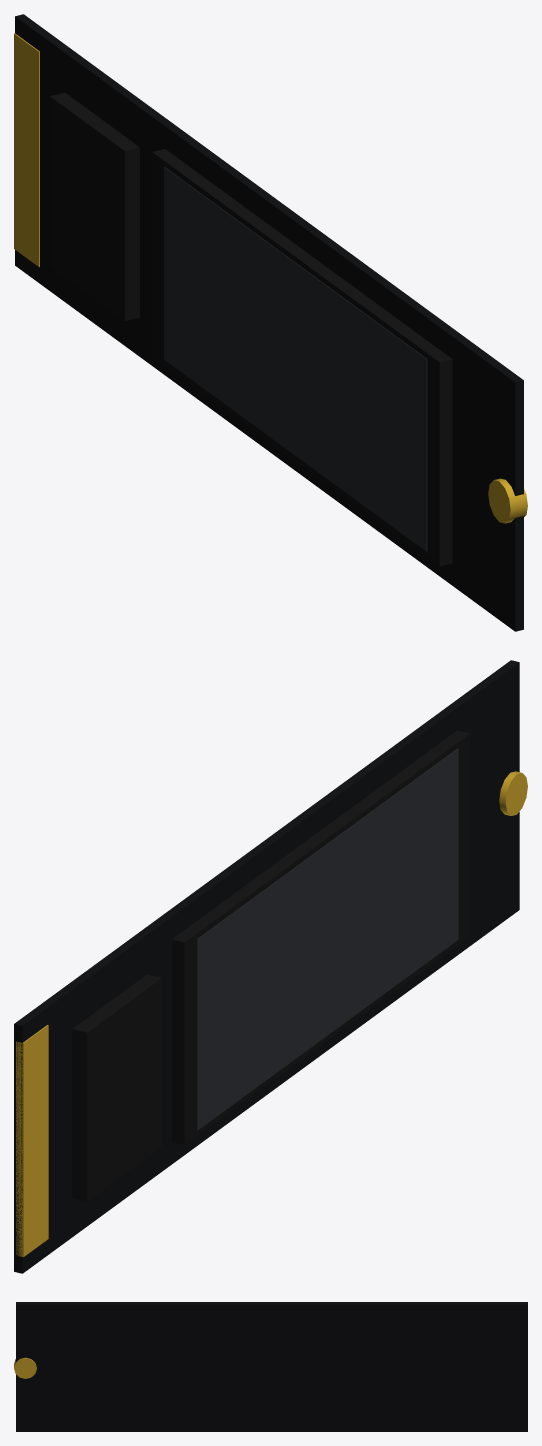
Rendered from ssd-m2.glb.
3 renders of one model, top to bottom at view 1: azimuth 30°, elevation 25°; view 2: azimuth 150°, elevation 25°; view 3: azimuth 270°, elevation 25°, orthographic. The views are drawn at different scales.
Parts seen in each view (by area): view 1: ssd_body; view 2: ssd_body; view 3: ssd_body.
Part boxes in pixels (bbox=[...]): ssd_body: bbox=[14, 14, 527, 631]; ssd_body: bbox=[14, 660, 527, 1273]; ssd_body: bbox=[14, 1302, 527, 1431].
Size of the model in its own units: 0.0024 by 0.022 by 0.0803.
